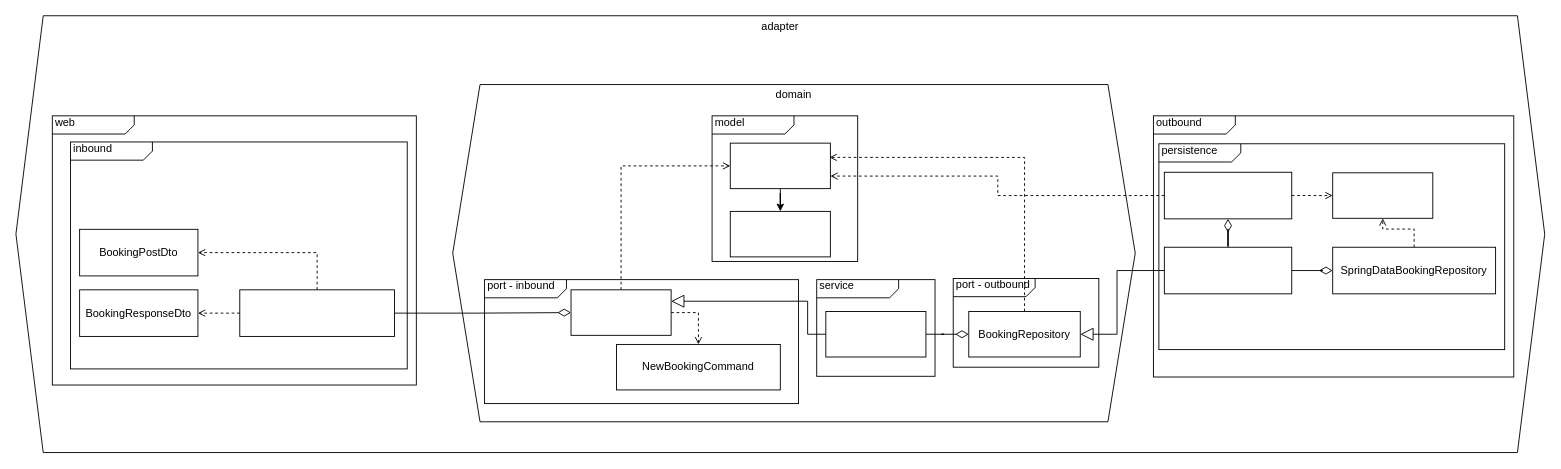
Some shapes in this 1561 by 469 pixel diagram are drawn without their labels. Each missing label, with the centre of its shape:
Booking: (x=779, y=165)
BookingApi: (x=620, y=312)
BookingEntity: (x=1382, y=195)
BookingEntityMapper: (x=1227, y=195)
BookingService: (x=875, y=334)
CustomerSpringController: (x=316, y=312)
H2BookingRepository: (x=1227, y=270)
«enum» BookingStatus: (x=779, y=233)
